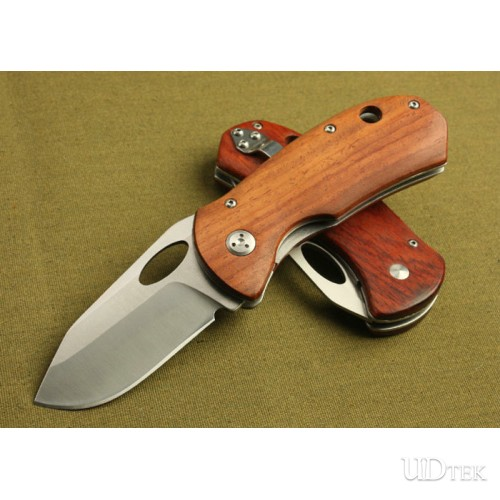knief: (43, 93, 455, 414)
